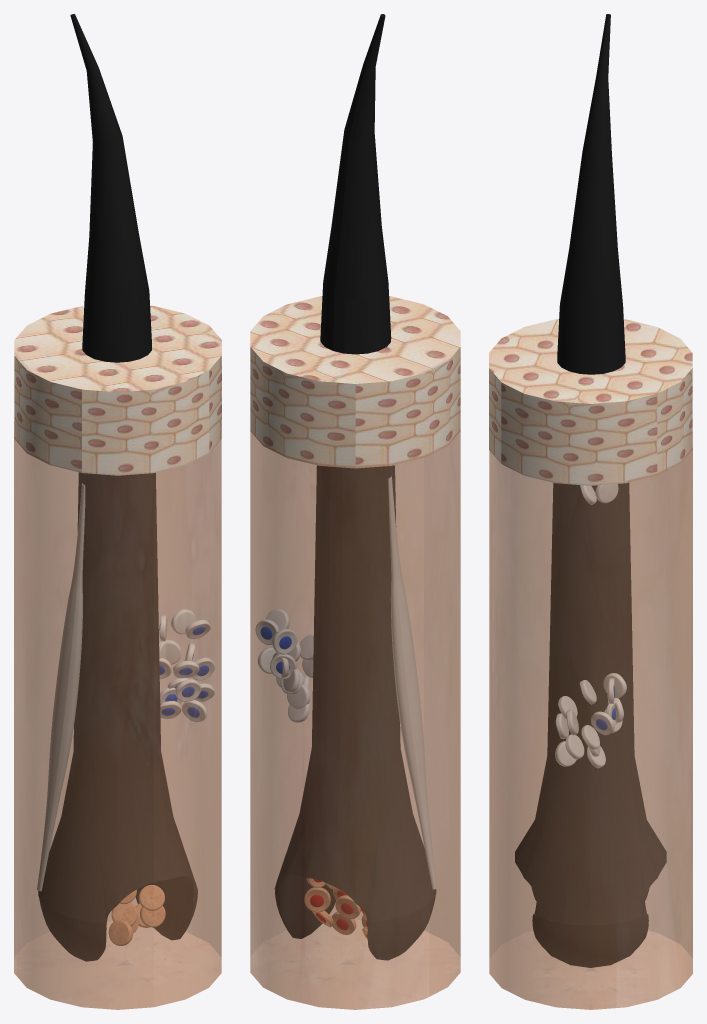
The model's file is hair-nails.glb.
3 renders of one model, left to right at view 1: azimuth 30°, elevation 25°; view 2: azimuth 150°, elevation 25°; view 3: azimuth 270°, elevation 25°, orthographic. The views are drawn at different scales.
Visible parts, largest first — view 1: Cylinder002_Material #3_0, Sphere001_siyah_0, Cylinder001_Material #4_0, Line001_Material #24_0, ChamferCyl052_Material #20_0, object 5, ChamferCyl052_Material #21_0; view 2: Cylinder002_Material #3_0, Sphere001_siyah_0, Cylinder001_Material #4_0, Line001_Material #24_0, ChamferCyl052_Material #20_0, object 5, ChamferCyl004_Material #6_0; view 3: Cylinder002_Material #3_0, Sphere001_siyah_0, Cylinder001_Material #4_0, ChamferCyl052_Material #20_0.
Boxes of the visible parts, x1,y1,x2,y2 form: Cylinder002_Material #3_0: (14, 421, 221, 1009); Sphere001_siyah_0: (38, 14, 197, 961); Cylinder001_Material #4_0: (14, 305, 221, 475); Line001_Material #24_0: (37, 483, 85, 890); ChamferCyl052_Material #20_0: (159, 609, 215, 722); object 5: (108, 885, 165, 945); ChamferCyl052_Material #21_0: (159, 624, 209, 717); Cylinder002_Material #3_0: (250, 429, 460, 1009); Sphere001_siyah_0: (274, 14, 436, 960); Cylinder001_Material #4_0: (250, 296, 460, 468); Line001_Material #24_0: (388, 476, 437, 889); ChamferCyl052_Material #20_0: (255, 609, 313, 722); object 5: (304, 878, 367, 938); ChamferCyl004_Material #6_0: (310, 879, 367, 937); Cylinder002_Material #3_0: (489, 432, 692, 1009); Sphere001_siyah_0: (515, 14, 666, 967); Cylinder001_Material #4_0: (489, 319, 692, 485); ChamferCyl052_Material #20_0: (555, 484, 626, 768).
Bounding box in the file's own units: 0.1203 × 0.6 × 0.1186.
8 materials, 3 textured.
